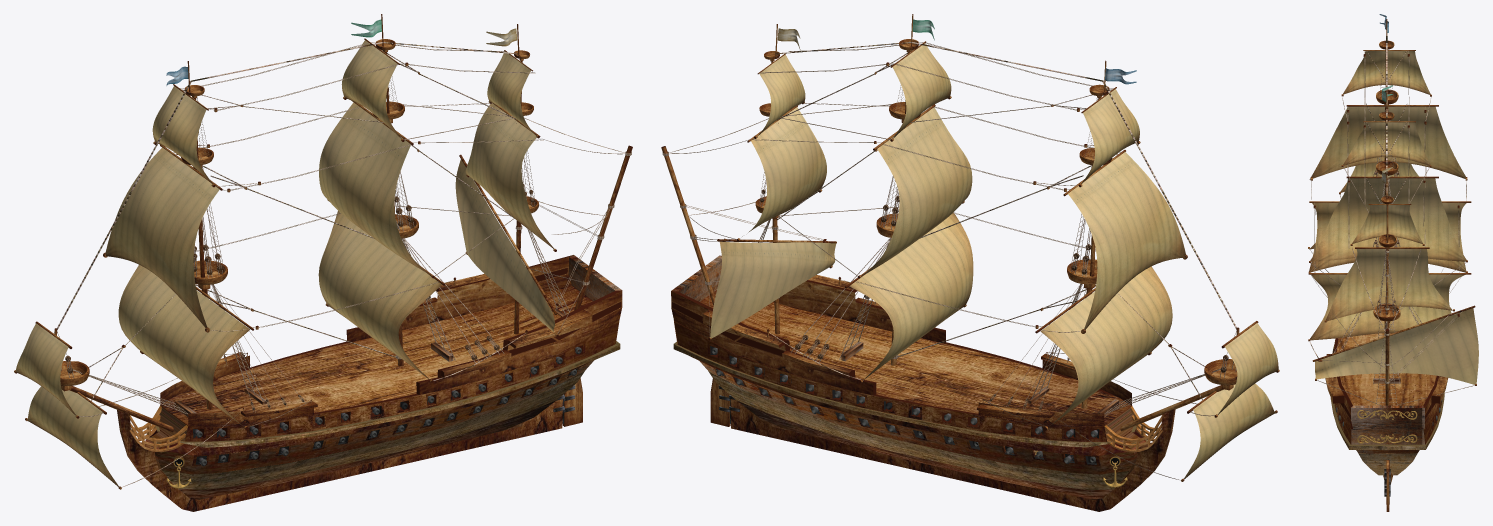
File: ship_r_optimized.glb
3 renders of one model, left to right at view 1: azimuth 30°, elevation 25°; view 2: azimuth 150°, elevation 25°; view 3: azimuth 270°, elevation 25°, orthographic. The views are drawn at different scales.
Parts seen in each view (by area): view 1: Object_30, Object_33, Object_7, Object_16, Object_39, Object_36, Object_40, Object_32, Object_31, Object_17; view 2: Object_30, Object_33, Object_7, Object_16, Object_39, Object_36, Object_40, Object_32, Object_31, Object_17; view 3: Object_30, Object_33, Object_7, Object_39, Object_16, Object_6, Object_40.
Boxes of the visible parts, bbox=[...] form: Object_30: bbox=[15, 40, 555, 486]; Object_33: bbox=[14, 14, 632, 511]; Object_7: bbox=[57, 42, 631, 487]; Object_16: bbox=[156, 341, 620, 493]; Object_39: bbox=[145, 255, 621, 477]; Object_36: bbox=[178, 400, 556, 499]; Object_40: bbox=[193, 347, 581, 466]; Object_32: bbox=[129, 406, 187, 452]; Object_31: bbox=[193, 365, 577, 464]; Object_17: bbox=[65, 184, 534, 410]; Object_30: bbox=[710, 43, 1278, 479]; Object_33: bbox=[661, 14, 1279, 511]; Object_7: bbox=[662, 42, 1236, 480]; Object_16: bbox=[673, 341, 1136, 496]; Object_39: bbox=[671, 255, 1145, 478]; Object_36: bbox=[737, 400, 1112, 499]; Object_40: bbox=[711, 347, 1097, 463]; Object_32: bbox=[1104, 406, 1162, 452]; Object_31: bbox=[710, 346, 1099, 464]; Object_17: bbox=[760, 189, 1233, 409]; Object_30: bbox=[1309, 51, 1478, 384]; Object_33: bbox=[1308, 19, 1476, 511]; Object_7: bbox=[1309, 36, 1474, 405]; Object_39: bbox=[1351, 378, 1424, 453]; Object_16: bbox=[1330, 345, 1444, 475]; Object_6: bbox=[1357, 410, 1417, 443]; Object_40: bbox=[1333, 348, 1442, 496].
Size of the model in its own units: 16.12 by 11.81 by 5.26.
15 materials, 15 textured.
